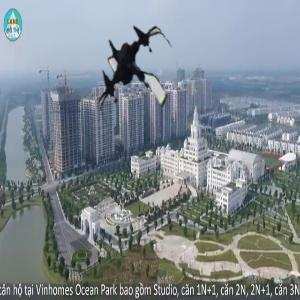drone: (84, 26, 188, 130)
